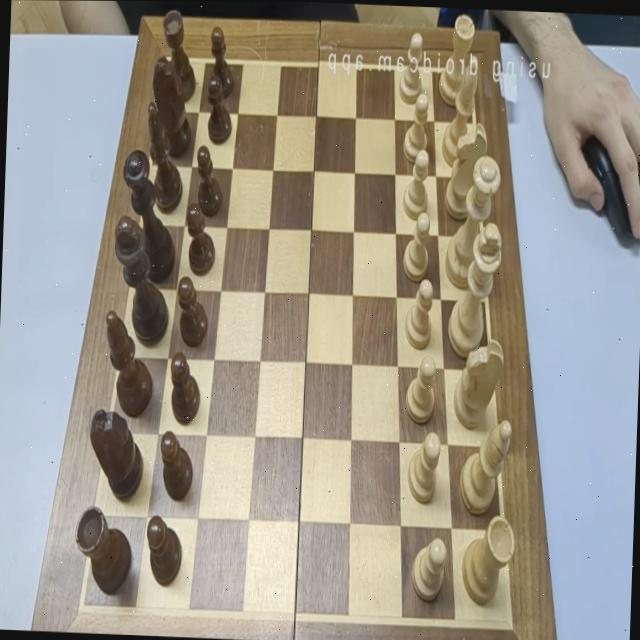black_bishop: (102, 309, 155, 417), (144, 101, 186, 213)
black_king: (110, 214, 172, 345)
black_knight: (87, 407, 146, 499), (150, 54, 193, 158)
black_pawn: (144, 513, 182, 584), (158, 429, 194, 502), (176, 275, 210, 348), (168, 351, 201, 424), (184, 202, 216, 274), (194, 144, 224, 216), (208, 25, 236, 101), (205, 74, 232, 142)
black_queen: (118, 148, 178, 283)
black_rook: (73, 504, 135, 595), (160, 9, 198, 104)
white_bishop: (458, 416, 512, 515), (441, 53, 478, 166)
white_king: (447, 220, 502, 358)
white_knight: (452, 336, 504, 429), (443, 120, 488, 220)
white_pawn: (406, 429, 441, 504), (410, 535, 447, 602), (404, 353, 436, 424), (403, 278, 433, 349), (401, 211, 430, 282), (402, 148, 429, 219), (402, 91, 428, 161), (398, 32, 423, 103)
white_queen: (444, 153, 502, 289)
white_rook: (460, 513, 516, 606), (438, 13, 475, 106)
